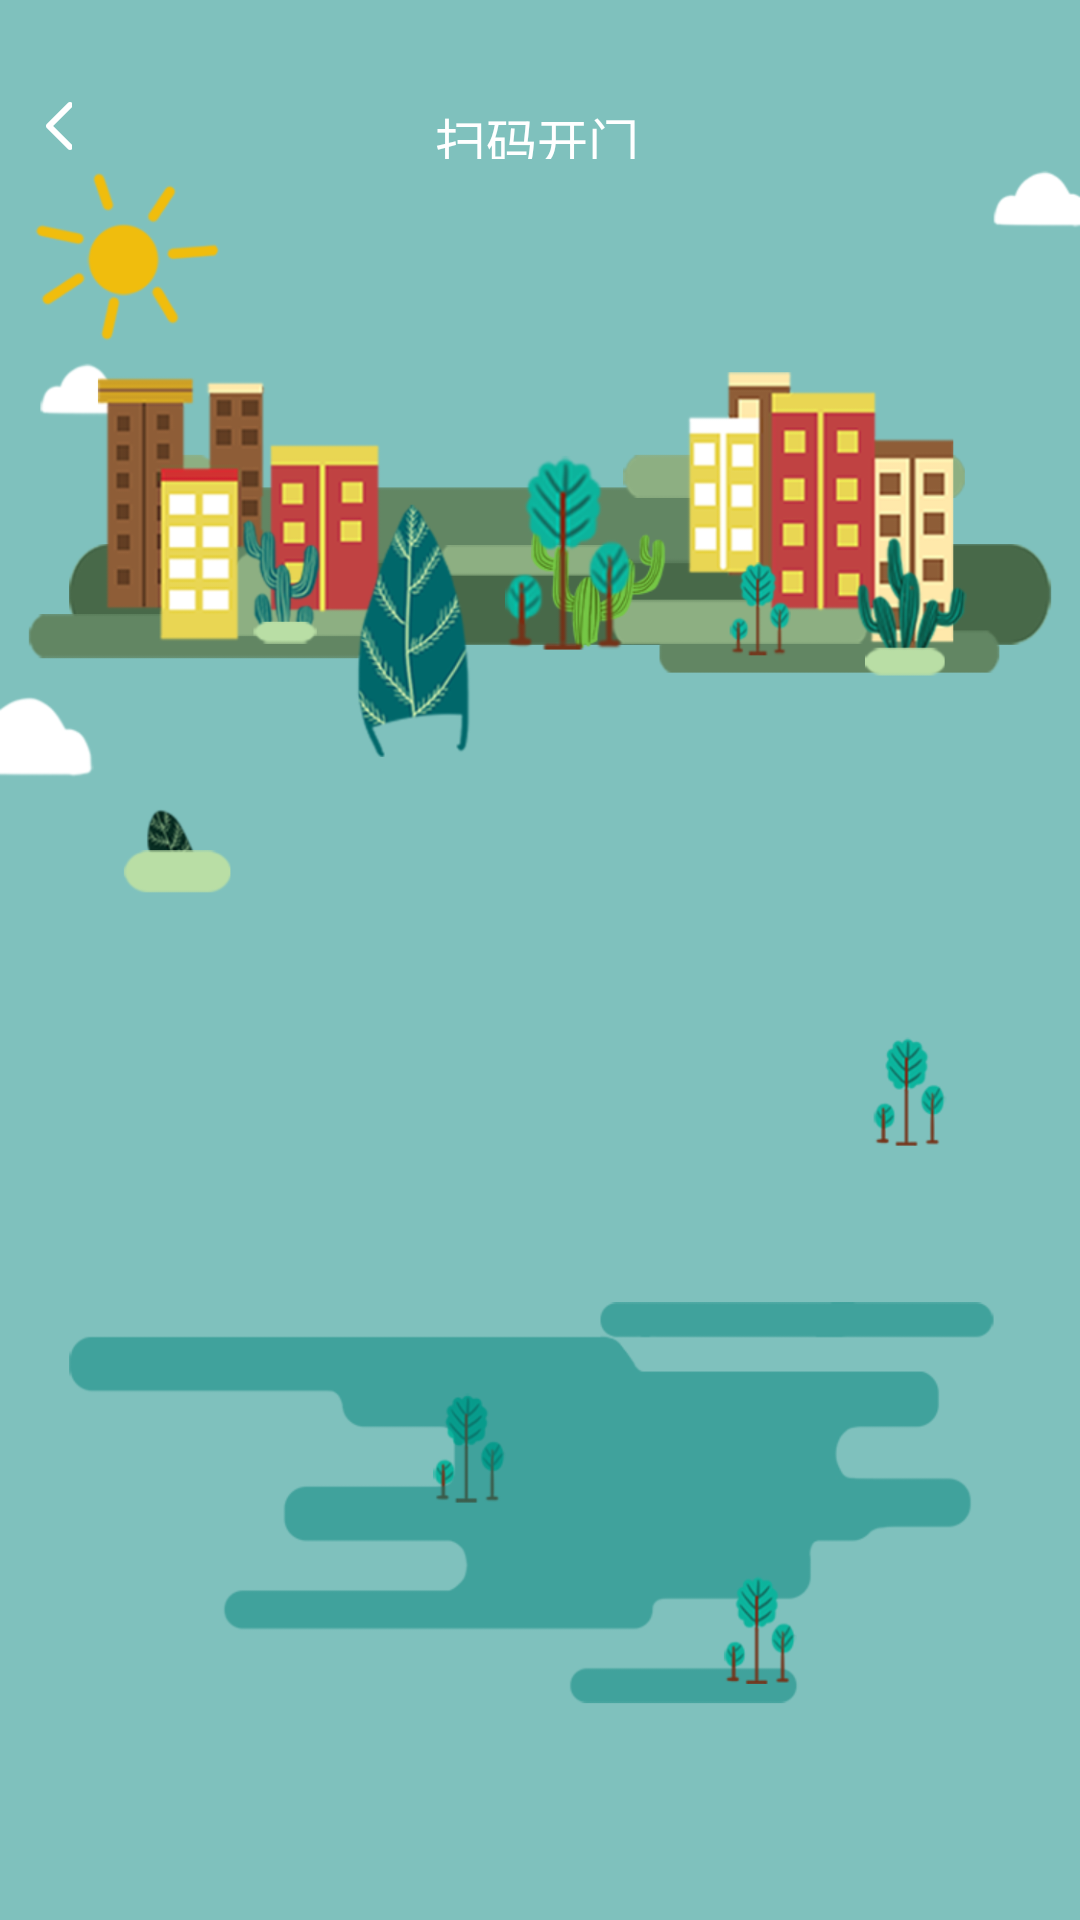

Point at icon controls on the screen. Image size 1080×1920, points as (x,y).
fanhubai: (59,126)
